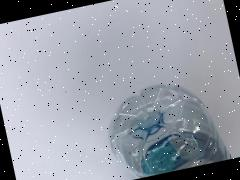plastic: (71, 15, 240, 180)
